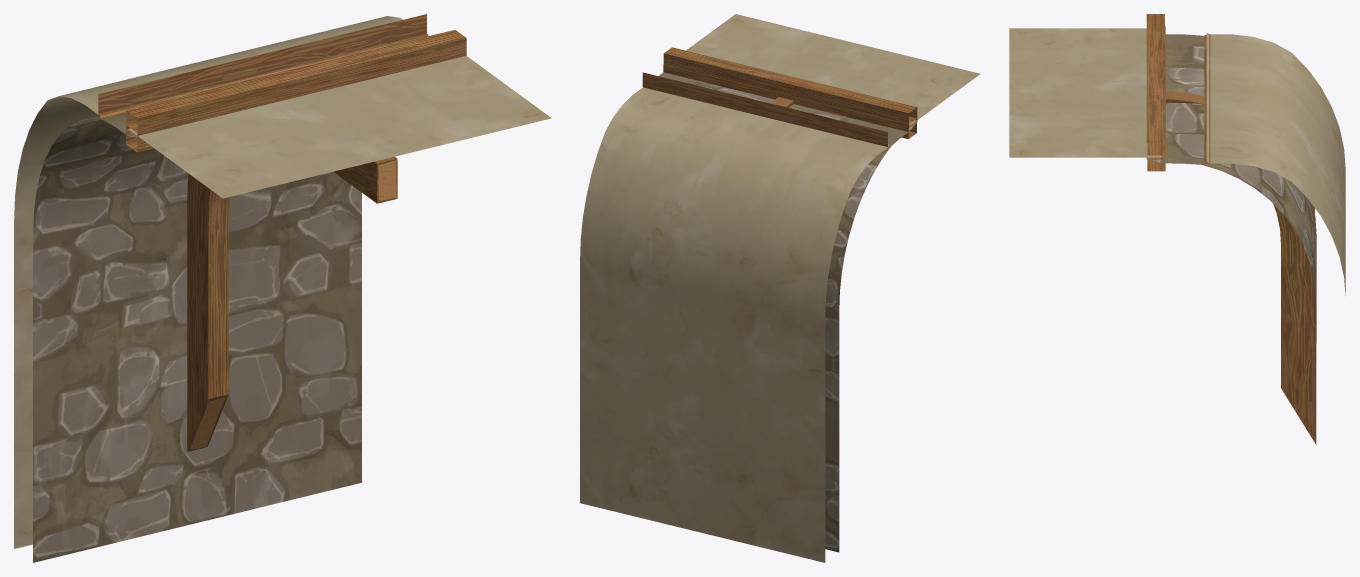
Rendered from overhang_unevenbrick_long.glb.
3 views of the same model, side by side, from view 1: azimuth 30°, elevation 25°; view 2: azimuth 150°, elevation 25°; view 3: azimuth 270°, elevation 25° (orthographic). The views are drawn at different scales.
Size of the model in its own units: 2 by 3.03 by 2.2.
Materials: 3 (3 with a texture image).
